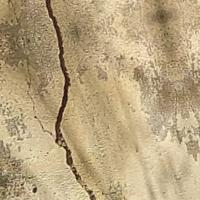crack: (31, 0, 116, 199)
